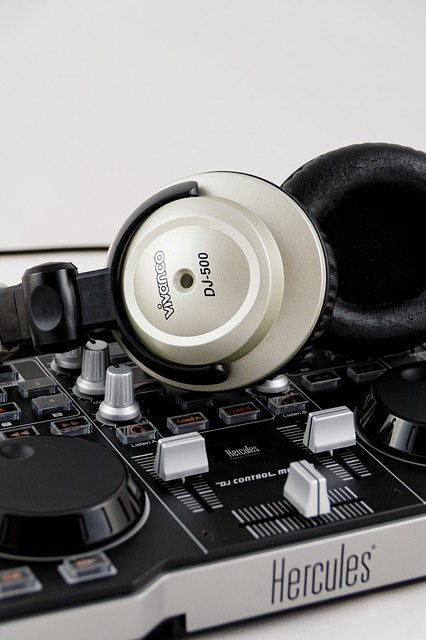headphones: (1, 143, 426, 392)
